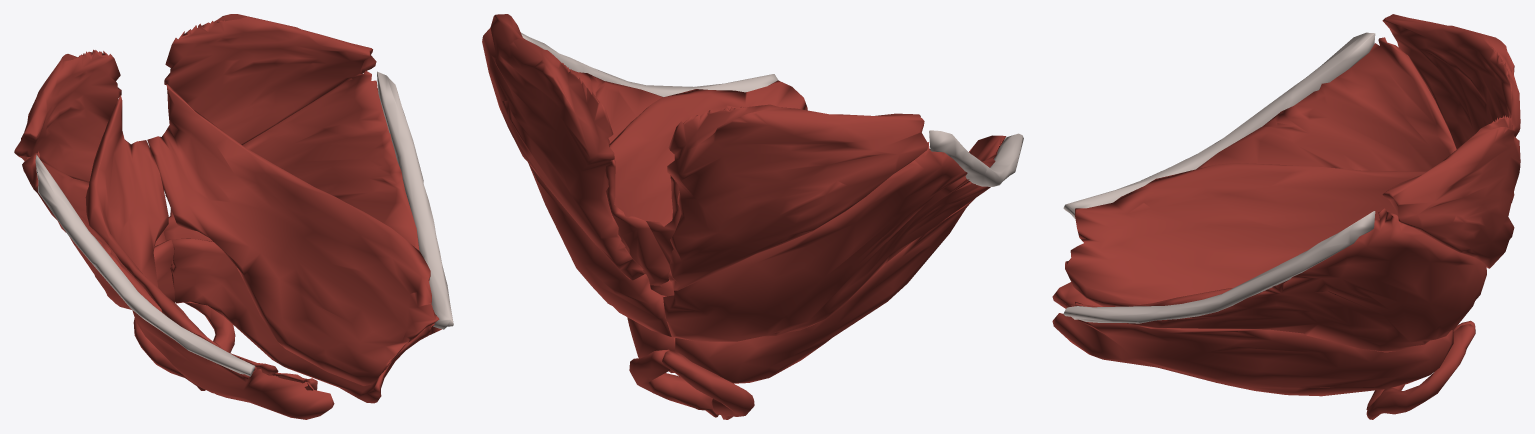
File: muscles-pelvis.glb
3 views of the same model, side by side, from view 1: azimuth 30°, elevation 25°; view 2: azimuth 150°, elevation 25°; view 3: azimuth 270°, elevation 25° (orthographic). The views are drawn at different scales.
Visible parts, largest first — view 1: muscle-pubococcygeus-muscle-l, muscle-coccygeus-muscle-l, muscle-iliococcygeus-muscle-l, muscle-pubococcygeus-muscle-r, muscle-coccygeus-muscle-r, muscle-pubo-analis-muscle-l, muscle-pubo-analis-muscle-r, muscle-tendinous-arch-of-levator-ani-r, muscle-tendinous-arch-of-levator-ani-l, muscle-iliococcygeus-muscle-r, muscle-external-anal-sphincter-l, muscle-external-anal-sphincter-r; view 2: muscle-coccygeus-muscle-r, muscle-iliococcygeus-muscle-r, muscle-coccygeus-muscle-l, muscle-pubococcygeus-muscle-l, muscle-pubo-analis-muscle-r, muscle-iliococcygeus-muscle-l, muscle-tendinous-arch-of-levator-ani-r, muscle-external-anal-sphincter-r, muscle-external-anal-sphincter-l, muscle-tendinous-arch-of-levator-ani-l, muscle-pubococcygeus-muscle-r, muscle-pubo-analis-muscle-l; view 3: muscle-pubococcygeus-muscle-r, muscle-iliococcygeus-muscle-l, muscle-pubo-analis-muscle-l, muscle-iliococcygeus-muscle-r, muscle-coccygeus-muscle-l, muscle-coccygeus-muscle-r, muscle-tendinous-arch-of-levator-ani-l, muscle-tendinous-arch-of-levator-ani-r, muscle-external-anal-sphincter-l, muscle-pubococcygeus-muscle-l, muscle-pubo-analis-muscle-r.
Boxes of the visible parts, <box> form: muscle-pubococcygeus-muscle-l: <box>147,84,439,385</box>; muscle-coccygeus-muscle-l: <box>164,14,376,196</box>; muscle-iliococcygeus-muscle-l: <box>163,70,419,266</box>; muscle-pubococcygeus-muscle-r: <box>85,95,317,390</box>; muscle-coccygeus-muscle-r: <box>14,49,121,182</box>; muscle-pubo-analis-muscle-l: <box>171,238,441,403</box>; muscle-pubo-analis-muscle-r: <box>132,239,334,419</box>; muscle-tendinous-arch-of-levator-ani-r: <box>35,154,255,376</box>; muscle-tendinous-arch-of-levator-ani-l: <box>377,71,453,329</box>; muscle-iliococcygeus-muscle-r: <box>22,151,165,312</box>; muscle-external-anal-sphincter-l: <box>184,302,235,352</box>; muscle-external-anal-sphincter-r: <box>133,318,205,390</box>; muscle-coccygeus-muscle-r: <box>667,104,928,290</box>; muscle-iliococcygeus-muscle-r: <box>663,142,990,341</box>; muscle-coccygeus-muscle-l: <box>482,14,645,280</box>; muscle-pubococcygeus-muscle-l: <box>605,80,807,296</box>; muscle-pubo-analis-muscle-r: <box>675,150,998,383</box>; muscle-iliococcygeus-muscle-l: <box>528,69,671,336</box>; muscle-tendinous-arch-of-levator-ani-r: <box>929,130,1023,186</box>; muscle-external-anal-sphincter-r: <box>662,350,754,419</box>; muscle-external-anal-sphincter-l: <box>629,349,718,417</box>; muscle-tendinous-arch-of-levator-ani-l: <box>521,32,777,96</box>; muscle-pubococcygeus-muscle-r: <box>646,135,1006,265</box>; muscle-pubo-analis-muscle-l: <box>627,295,675,372</box>; muscle-pubococcygeus-muscle-r: <box>1065,163,1426,306</box>; muscle-iliococcygeus-muscle-l: <box>1127,208,1486,352</box>; muscle-pubo-analis-muscle-l: <box>1052,313,1453,396</box>; muscle-iliococcygeus-muscle-r: <box>1196,37,1456,171</box>; muscle-coccygeus-muscle-l: <box>1382,115,1520,268</box>; muscle-coccygeus-muscle-r: <box>1382,14,1520,202</box>; muscle-tendinous-arch-of-levator-ani-l: <box>1063,211,1375,323</box>; muscle-tendinous-arch-of-levator-ani-r: <box>1063,32,1375,218</box>; muscle-external-anal-sphincter-l: <box>1366,324,1475,419</box>; muscle-pubococcygeus-muscle-l: <box>1065,288,1232,307</box>; muscle-pubo-analis-muscle-r: <box>1052,282,1102,308</box>.
Size of the model in its own units: 0.0936 by 0.0774 by 0.098.
